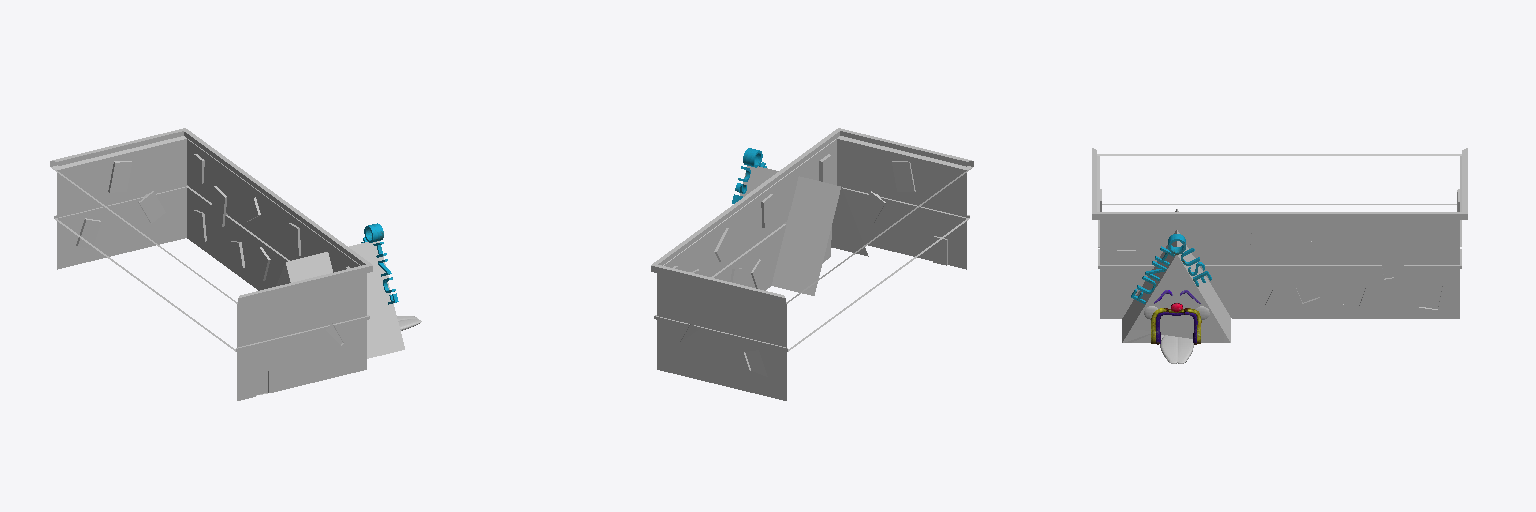
The picture shows the model from 3 angles: view 1: azimuth 30°, elevation 25°; view 2: azimuth 150°, elevation 25°; view 3: azimuth 270°, elevation 25°; orthographic projection.
Visible parts, largest first — view 1: Cube, Cube.002, Text.002; view 2: Cube, Cube.002, Text.002; view 3: Cube, Cube.002, Text.002, Cube.001.
Boxes of the visible parts, x1=… form: Cube: x1=50, y1=128, x2=372, y2=400; Cube.002: x1=277, y1=241, x2=404, y2=358; Text.002: x1=361, y1=223, x2=398, y2=304; Cube: x1=651, y1=128, x2=973, y2=400; Cube.002: x1=740, y1=166, x2=868, y2=295; Text.002: x1=732, y1=148, x2=766, y2=203; Cube: x1=1092, y1=148, x2=1467, y2=318; Cube.002: x1=1122, y1=209, x2=1230, y2=342; Text.002: x1=1131, y1=234, x2=1211, y2=303; Cube.001: x1=1160, y1=335, x2=1193, y2=363.
Size of the model in its own units: 27.67 by 12.68 by 40.25.
9 materials, 5 textured.